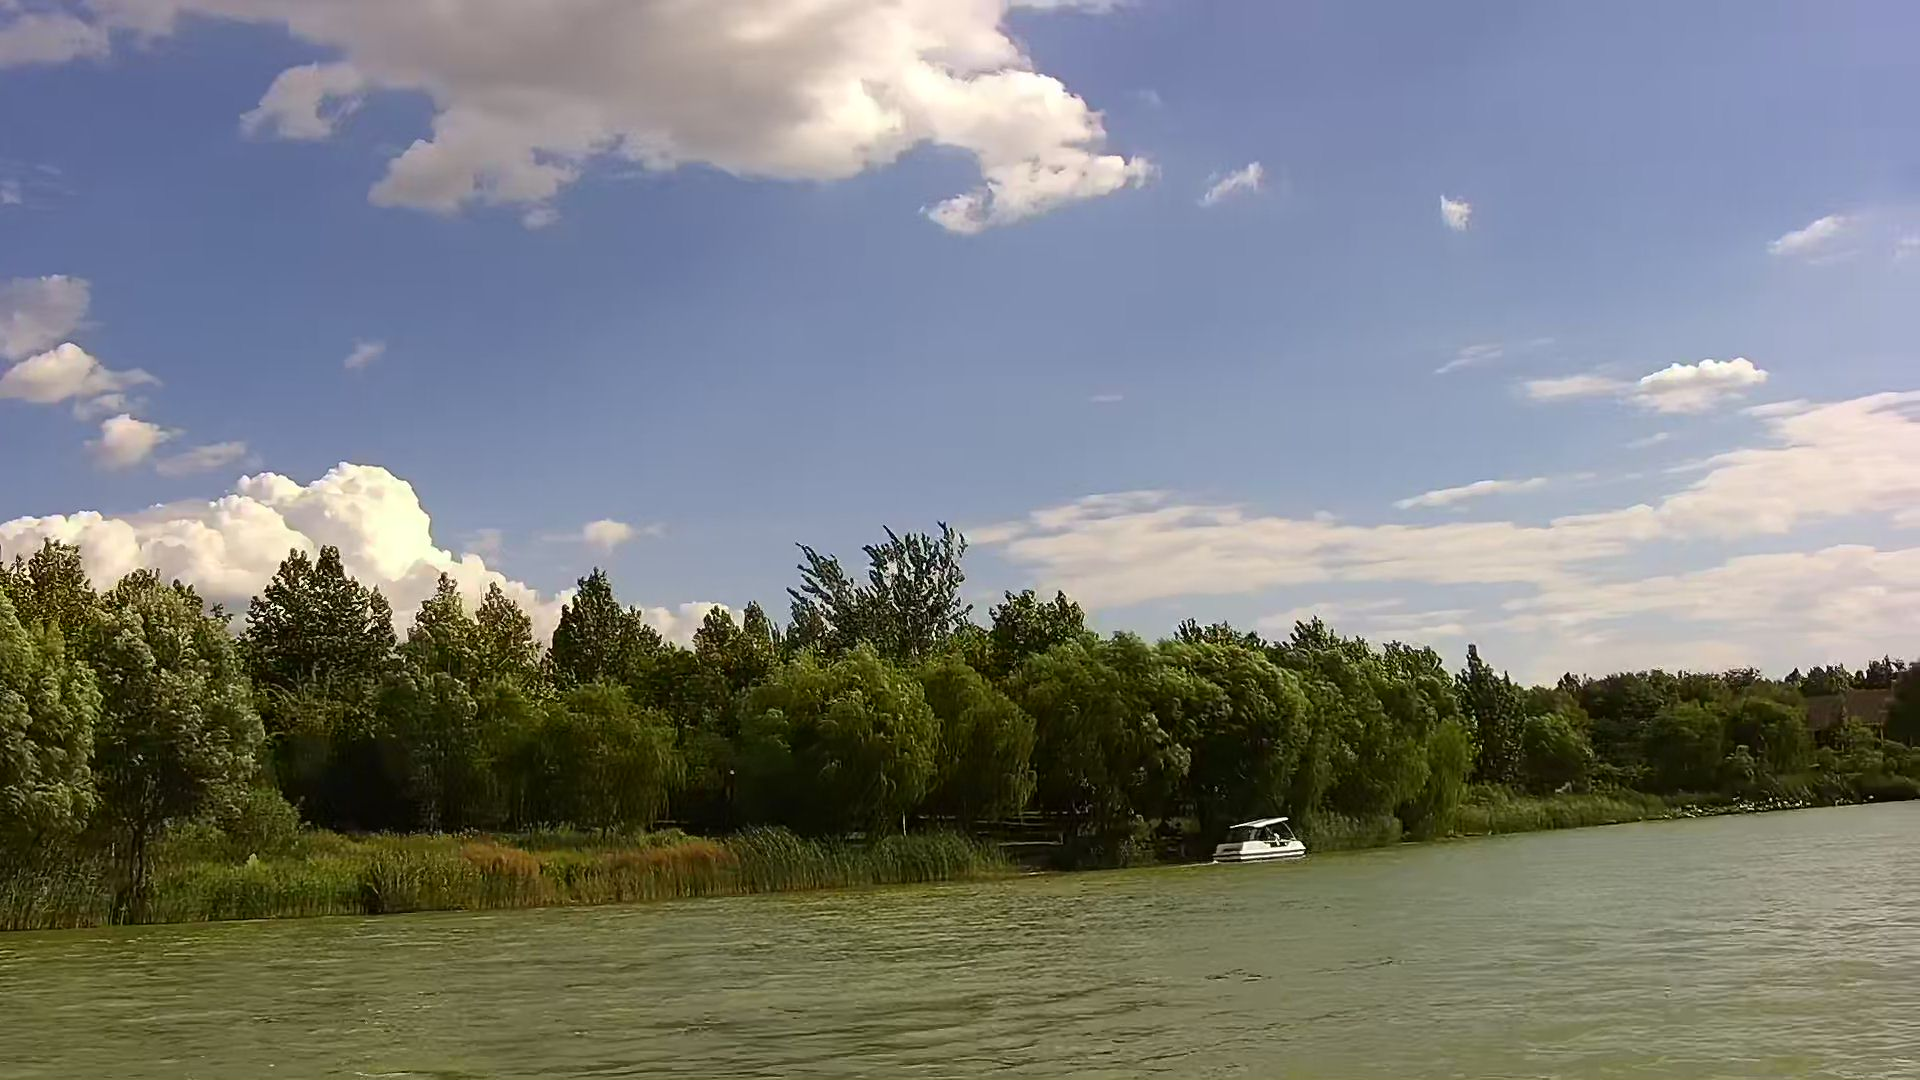boat: (1211, 818, 1305, 865)
